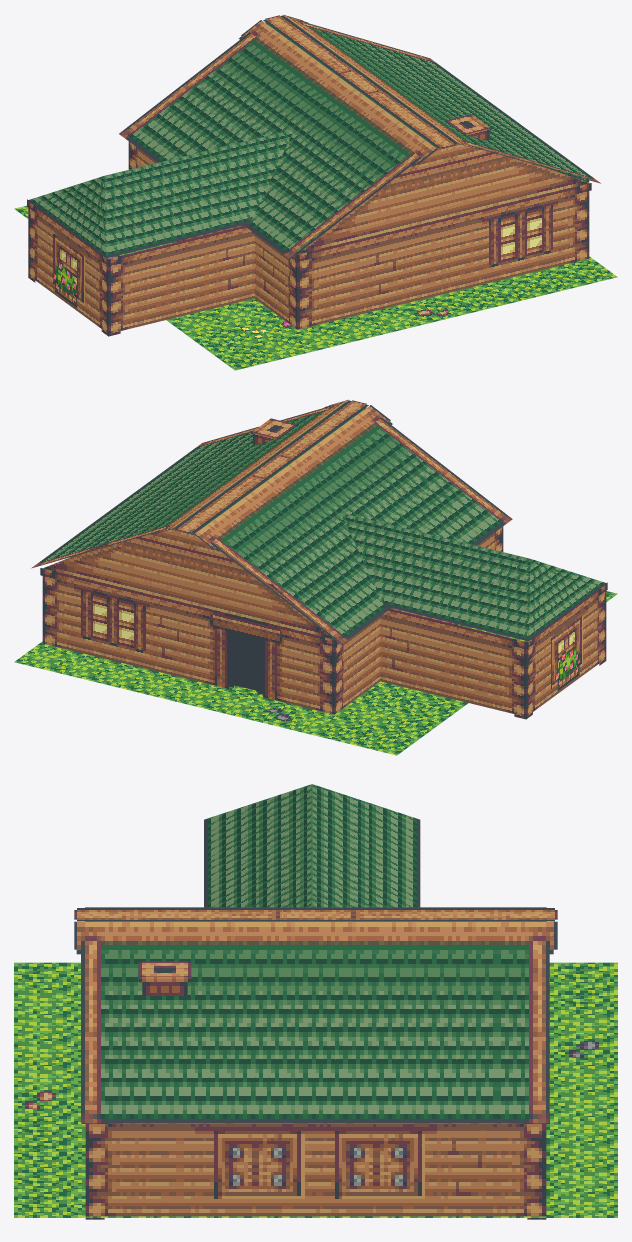
File: Cabin_1.gltf
The picture shows the model from 3 angles, top to bottom: view 1: azimuth 30°, elevation 25°; view 2: azimuth 150°, elevation 25°; view 3: azimuth 270°, elevation 25°; orthographic projection. The views are drawn at different scales.
Bounding box in the file's own units: 11.94 × 3.94 × 10.
Materials: 3 (3 with a texture image).
